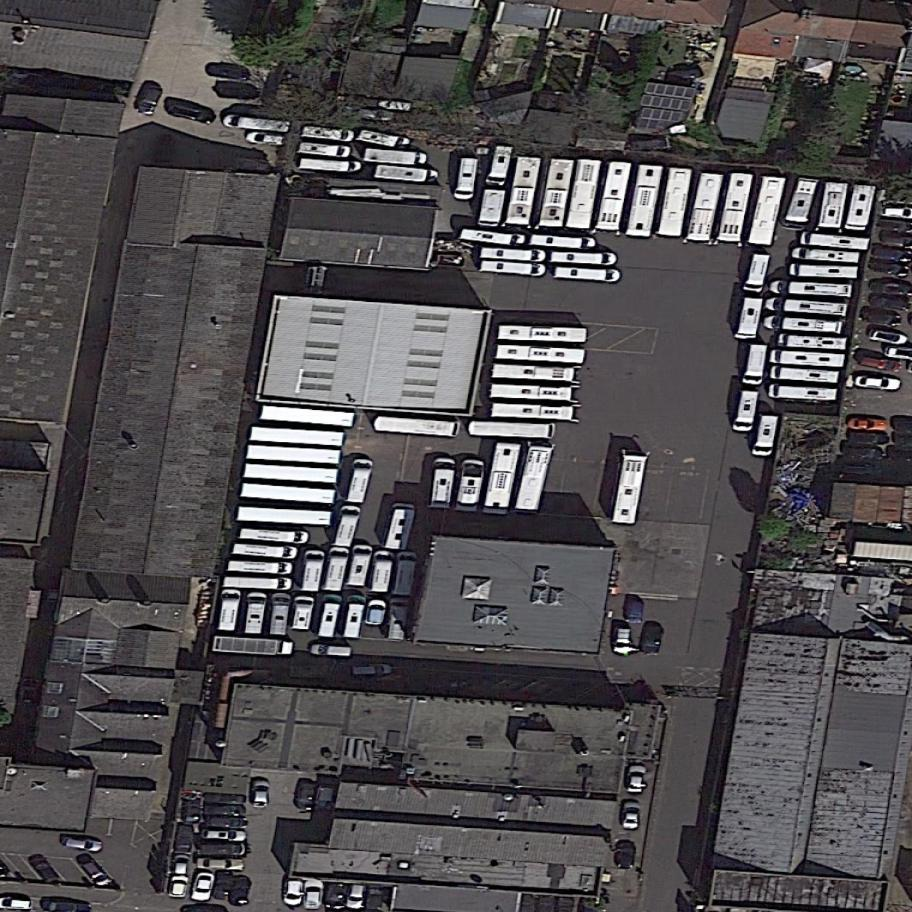large-vehicle: (511, 439, 558, 519), (480, 438, 524, 521), (608, 449, 652, 530), (624, 160, 666, 243), (593, 156, 635, 236), (654, 163, 696, 242), (504, 152, 545, 231), (715, 168, 756, 246), (565, 156, 606, 233), (685, 169, 726, 246), (749, 173, 787, 249), (539, 155, 576, 231), (259, 403, 356, 430), (239, 481, 342, 506), (209, 633, 299, 661), (781, 172, 822, 232), (248, 425, 348, 449), (235, 504, 335, 528), (245, 442, 344, 466), (372, 413, 462, 439), (382, 496, 421, 556), (242, 461, 342, 484), (493, 343, 589, 366), (454, 454, 488, 516), (342, 452, 378, 509), (492, 361, 581, 384), (497, 323, 589, 344), (427, 454, 460, 512), (844, 180, 878, 236), (768, 277, 854, 299), (764, 295, 850, 317), (490, 401, 580, 422), (467, 419, 557, 440), (337, 591, 372, 645), (768, 347, 850, 370), (217, 111, 295, 135), (329, 499, 365, 551), (763, 313, 844, 336), (488, 383, 580, 403), (236, 524, 312, 548), (214, 586, 248, 639), (799, 229, 874, 253), (344, 540, 379, 591), (818, 179, 851, 233), (790, 244, 864, 268), (320, 543, 354, 595), (314, 590, 348, 642), (767, 381, 840, 405), (550, 263, 626, 286), (740, 248, 774, 299), (776, 330, 851, 353), (732, 295, 766, 345), (372, 162, 442, 186), (385, 592, 416, 645), (220, 572, 298, 593), (390, 550, 423, 599), (731, 387, 763, 437), (240, 588, 272, 638), (768, 365, 844, 386), (355, 127, 416, 153), (485, 141, 517, 190), (457, 226, 528, 248), (548, 247, 619, 269), (750, 411, 781, 461), (266, 591, 298, 639), (740, 342, 772, 389), (528, 232, 599, 253), (479, 258, 550, 279), (300, 546, 330, 595), (478, 186, 509, 232), (451, 156, 481, 203), (478, 245, 548, 265), (368, 548, 397, 596), (364, 147, 430, 168), (230, 542, 301, 561), (226, 558, 299, 576), (296, 156, 365, 175), (288, 593, 320, 633), (789, 263, 862, 280), (300, 123, 359, 143), (295, 140, 354, 160)
small-vehicle: (166, 100, 220, 128), (78, 855, 115, 893), (26, 849, 62, 888), (133, 80, 167, 121), (857, 306, 905, 328), (206, 62, 256, 83), (858, 353, 905, 375), (212, 82, 262, 102), (866, 327, 910, 348), (866, 293, 912, 313), (638, 623, 665, 656), (190, 869, 216, 903), (625, 762, 649, 797), (60, 836, 106, 854), (194, 857, 245, 873), (854, 375, 904, 391), (173, 822, 197, 855), (228, 875, 252, 908), (364, 597, 389, 628), (846, 416, 890, 433), (294, 780, 318, 811), (200, 828, 248, 843), (314, 782, 336, 814), (304, 879, 326, 911), (308, 643, 354, 658), (841, 446, 886, 461), (196, 843, 247, 856), (245, 132, 288, 147), (349, 662, 392, 677), (168, 873, 191, 901), (614, 841, 636, 870), (211, 874, 233, 902), (283, 879, 305, 907), (622, 800, 642, 830), (345, 884, 368, 910), (202, 792, 248, 805), (205, 816, 250, 829), (251, 779, 271, 808), (613, 627, 632, 656), (182, 798, 204, 822), (624, 600, 646, 624), (204, 804, 247, 816), (847, 432, 889, 444), (356, 109, 396, 121), (172, 853, 192, 875), (378, 100, 414, 111)
